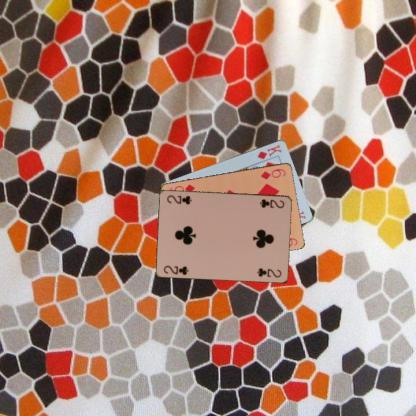2c: (161, 263, 190, 276), (258, 197, 286, 209)
6d: (258, 166, 287, 181)
Kd: (255, 142, 283, 160)
